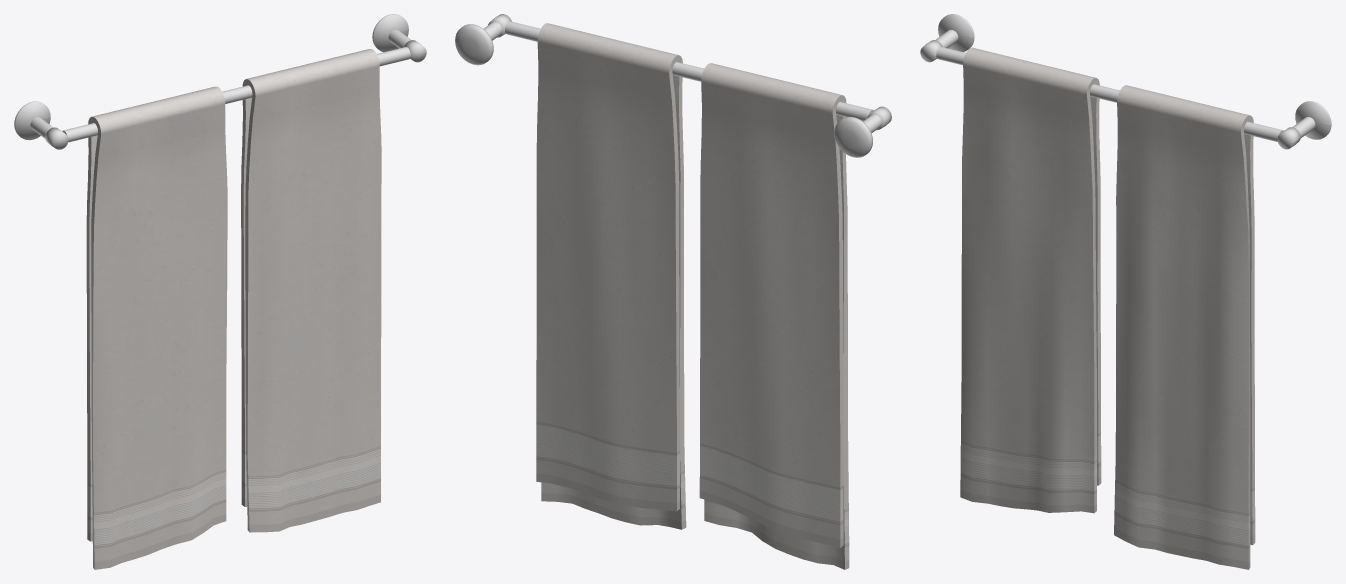
The model's file is hotel-towel-bar-towels.glb.
The picture shows the model from 3 angles, left to right: view 1: azimuth 30°, elevation 25°; view 2: azimuth 150°, elevation 25°; view 3: azimuth 330°, elevation 25°; orthographic projection. The views are drawn at different scales.
Parts seen in each view (by area): view 1: take_towel001, take_towel, steel_spotted; view 2: take_towel001, take_towel, steel_spotted; view 3: take_towel001, take_towel, steel_spotted.
Part boxes in pixels (x1,y1,x2,y2): take_towel001: [241, 49, 381, 532]; take_towel: [86, 86, 227, 569]; steel_spotted: [14, 14, 426, 149]; take_towel001: [536, 23, 686, 529]; take_towel: [699, 63, 849, 569]; steel_spotted: [455, 14, 891, 157]; take_towel001: [1114, 85, 1255, 569]; take_towel: [960, 47, 1101, 513]; steel_spotted: [920, 14, 1331, 149].
Bounding box in the file's own units: 0.67 × 0.7482 × 0.1082.
2 materials, 1 textured.
